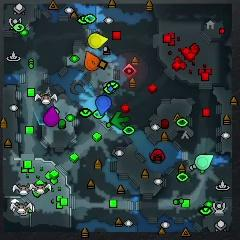p1: (96, 95, 111, 115)
p2: (196, 154, 213, 169)
p3: (44, 106, 60, 127)
p4: (89, 33, 108, 49)
p5: (85, 51, 100, 70)
x4: (111, 112, 128, 129)
